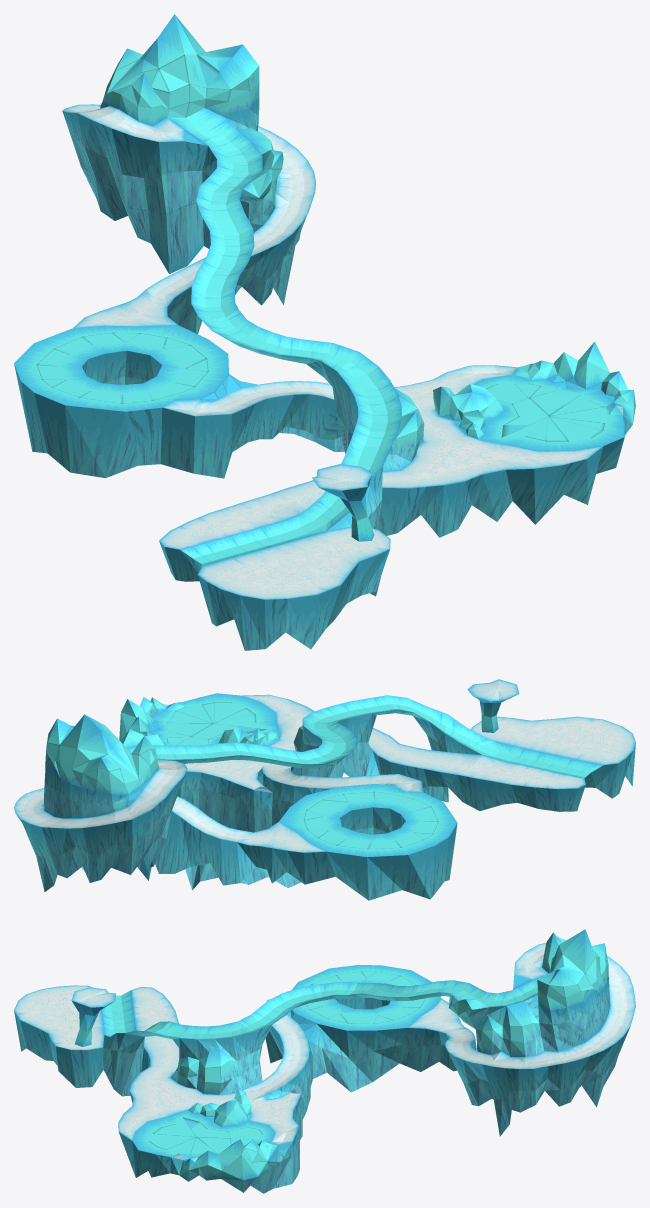
File: test-zone2.glb
The picture shows the model from 3 angles, top to bottom: view 1: azimuth 30°, elevation 25°; view 2: azimuth 150°, elevation 25°; view 3: azimuth 270°, elevation 25°; orthographic projection. The views are drawn at different scales.
Parts seen in each view (by area): view 1: Frame_0.007; view 2: Frame_0.007; view 3: Frame_0.007.
Part boxes in pixels (left/top/right/bottom): Frame_0.007: left=14, top=14, right=635, bottom=650; Frame_0.007: left=14, top=679, right=635, bottom=900; Frame_0.007: left=14, top=929, right=635, bottom=1193.
Bounding box in the file's own units: 135 × 75.25 × 195.
1 material, 1 textured.
